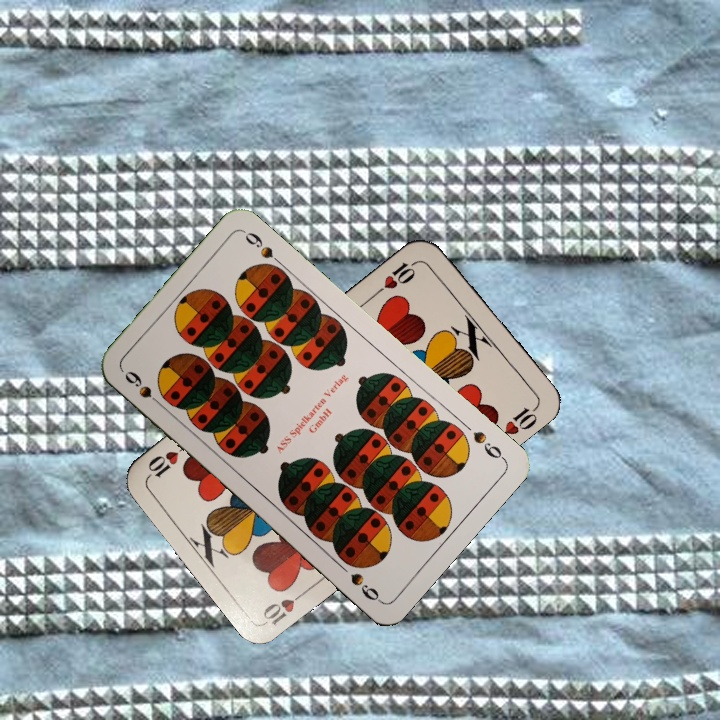H10: (259, 584, 312, 628), (372, 256, 422, 298)
S9: (120, 366, 168, 411), (468, 427, 508, 463)
